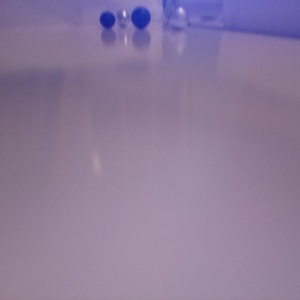alive_ball: (169, 6, 188, 29), (117, 9, 130, 27)
dead_ball: (131, 7, 151, 29), (99, 10, 116, 29)
